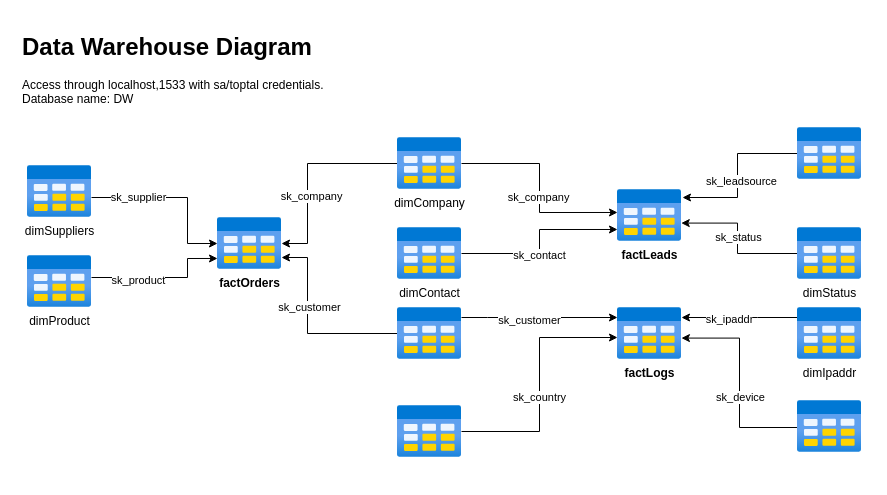
The diagram is 887 pixels wide and 495 high, and some of its shapes have lost their labels. The shapes that lost their labels are listed below. From the top down, each one's centre as x and y in pixels, then its label:
the point at 829,153: dimLeadsource
the point at 429,333: dimCustomer
the point at 429,431: dimCountry
the point at 829,426: dimDevice
